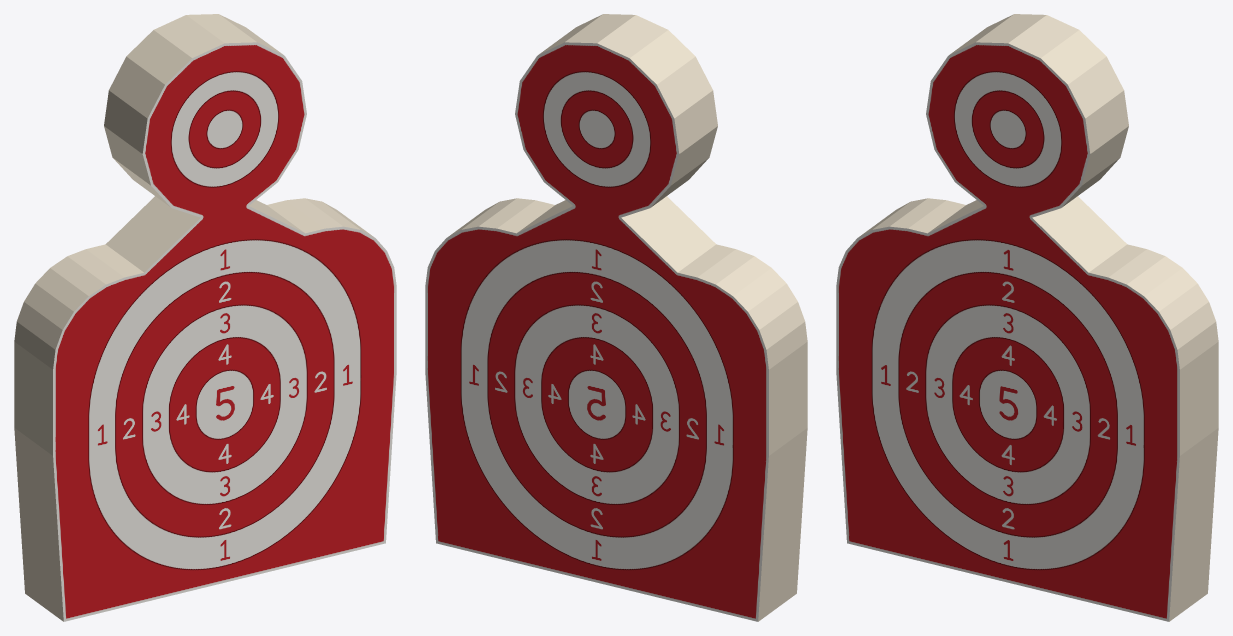
File: cartoon_target.glb
3 views of the same model, side by side, from view 1: azimuth 30°, elevation 25°; view 2: azimuth 150°, elevation 25°; view 3: azimuth 330°, elevation 25° (orthographic).
Parts seen in each view (by area): view 1: Center, Left, Head, Right; view 2: Center, Left, Head, Right; view 3: Center, Right, Head, Left.
Part boxes in pixels (x1=…): Center: x1=105, y1=196, x2=305, y2=602; Left: x1=14, y1=244, x2=144, y2=621; Head: x1=104, y1=14, x2=306, y2=217; Right: x1=267, y1=198, x2=396, y2=562; Center: x1=516, y1=196, x2=716, y2=602; Left: x1=677, y1=244, x2=807, y2=621; Head: x1=515, y1=14, x2=717, y2=217; Right: x1=425, y1=198, x2=554, y2=562; Center: x1=927, y1=196, x2=1127, y2=602; Right: x1=1088, y1=244, x2=1218, y2=621; Head: x1=926, y1=14, x2=1128, y2=217; Left: x1=836, y1=198, x2=965, y2=562.
Bounding box in the file's own units: 0.6144 × 0.9216 × 0.12.
2 materials, 1 textured.
